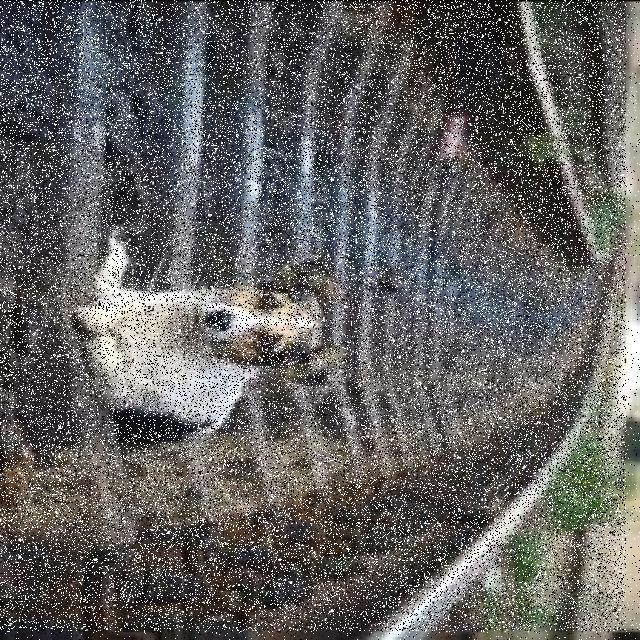rail: (1, 1, 627, 632)
